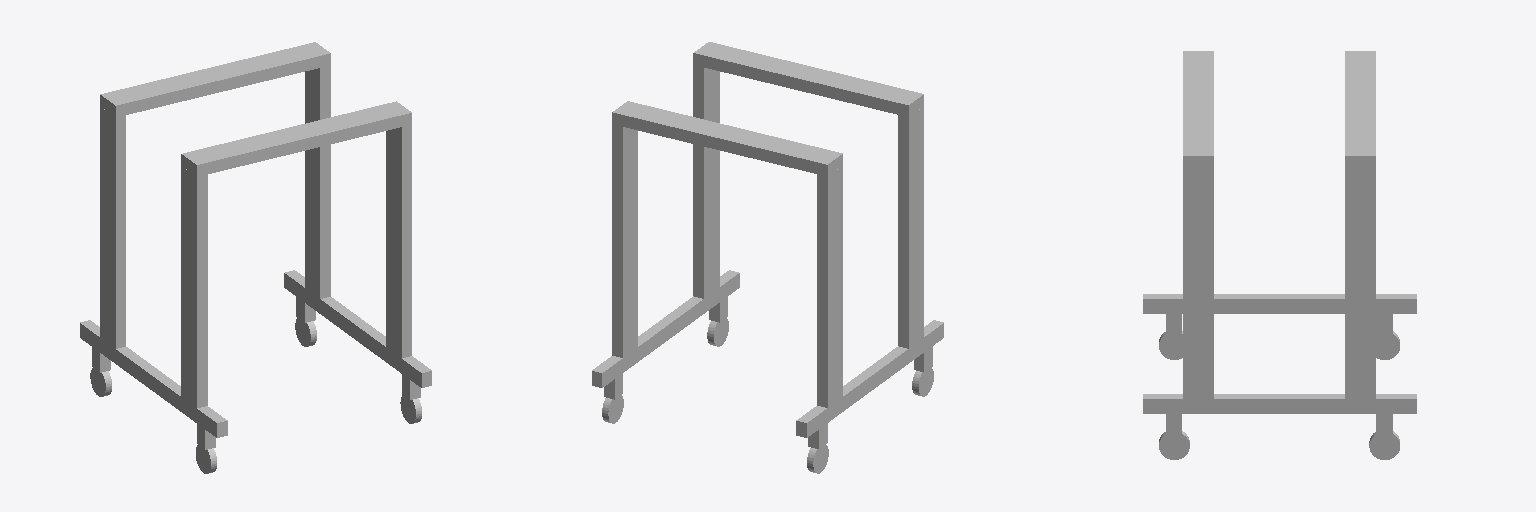
Rendered from dockcrane.obj.
3 views of the same model, side by side, from view 1: azimuth 30°, elevation 25°; view 2: azimuth 150°, elevation 25°; view 3: azimuth 270°, elevation 25° (orthographic).
Parts seen in each view (by area): view 1: Cube; view 2: Cube; view 3: Cube.
Boxes of the visible parts, x1,y1,x2,y2 form: Cube: [80, 42, 431, 473]; Cube: [592, 42, 943, 473]; Cube: [1143, 51, 1416, 459].
Size of the model in its own units: 15.99 by 21.66 by 17.68.